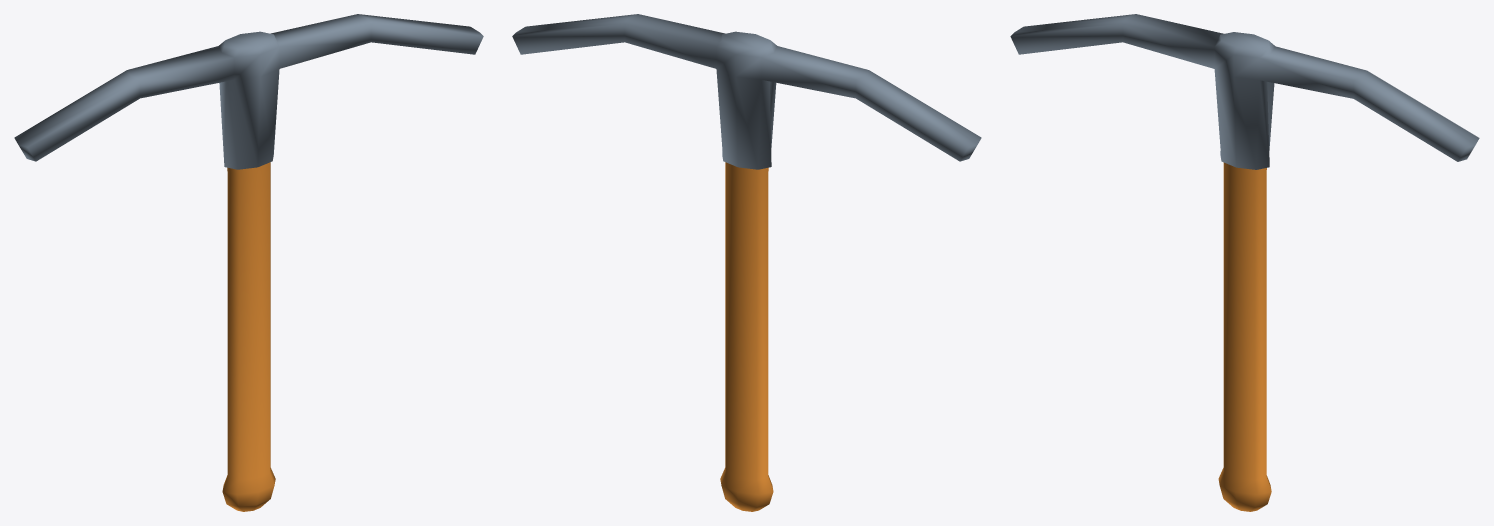
Rendered from Pickaxe.fbx.
3 views of the same model, side by side, from view 1: azimuth 30°, elevation 25°; view 2: azimuth 150°, elevation 25°; view 3: azimuth 330°, elevation 25° (orthographic).
Parts seen in each view (by area): view 1: Axe; view 2: Axe; view 3: Axe.
Part boxes in pixels (left/top/right/bottom): Axe: left=14, top=14, right=483, bottom=511; Axe: left=512, top=14, right=981, bottom=511; Axe: left=1010, top=14, right=1479, bottom=511.
Bounding box in the file's own units: 177 × 171 × 14.95.
